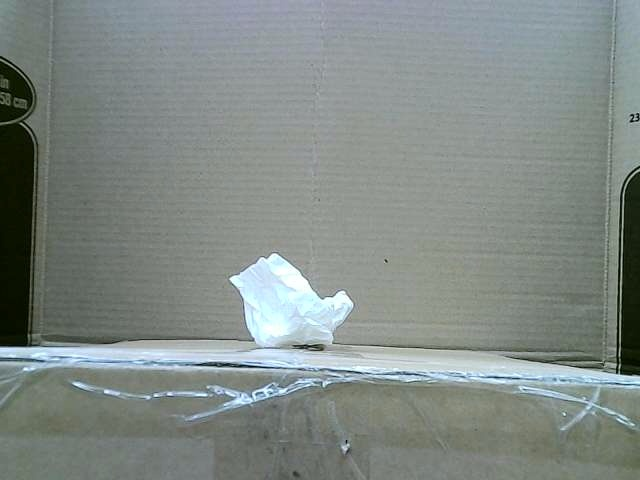Tissue: (228, 253, 354, 344)
